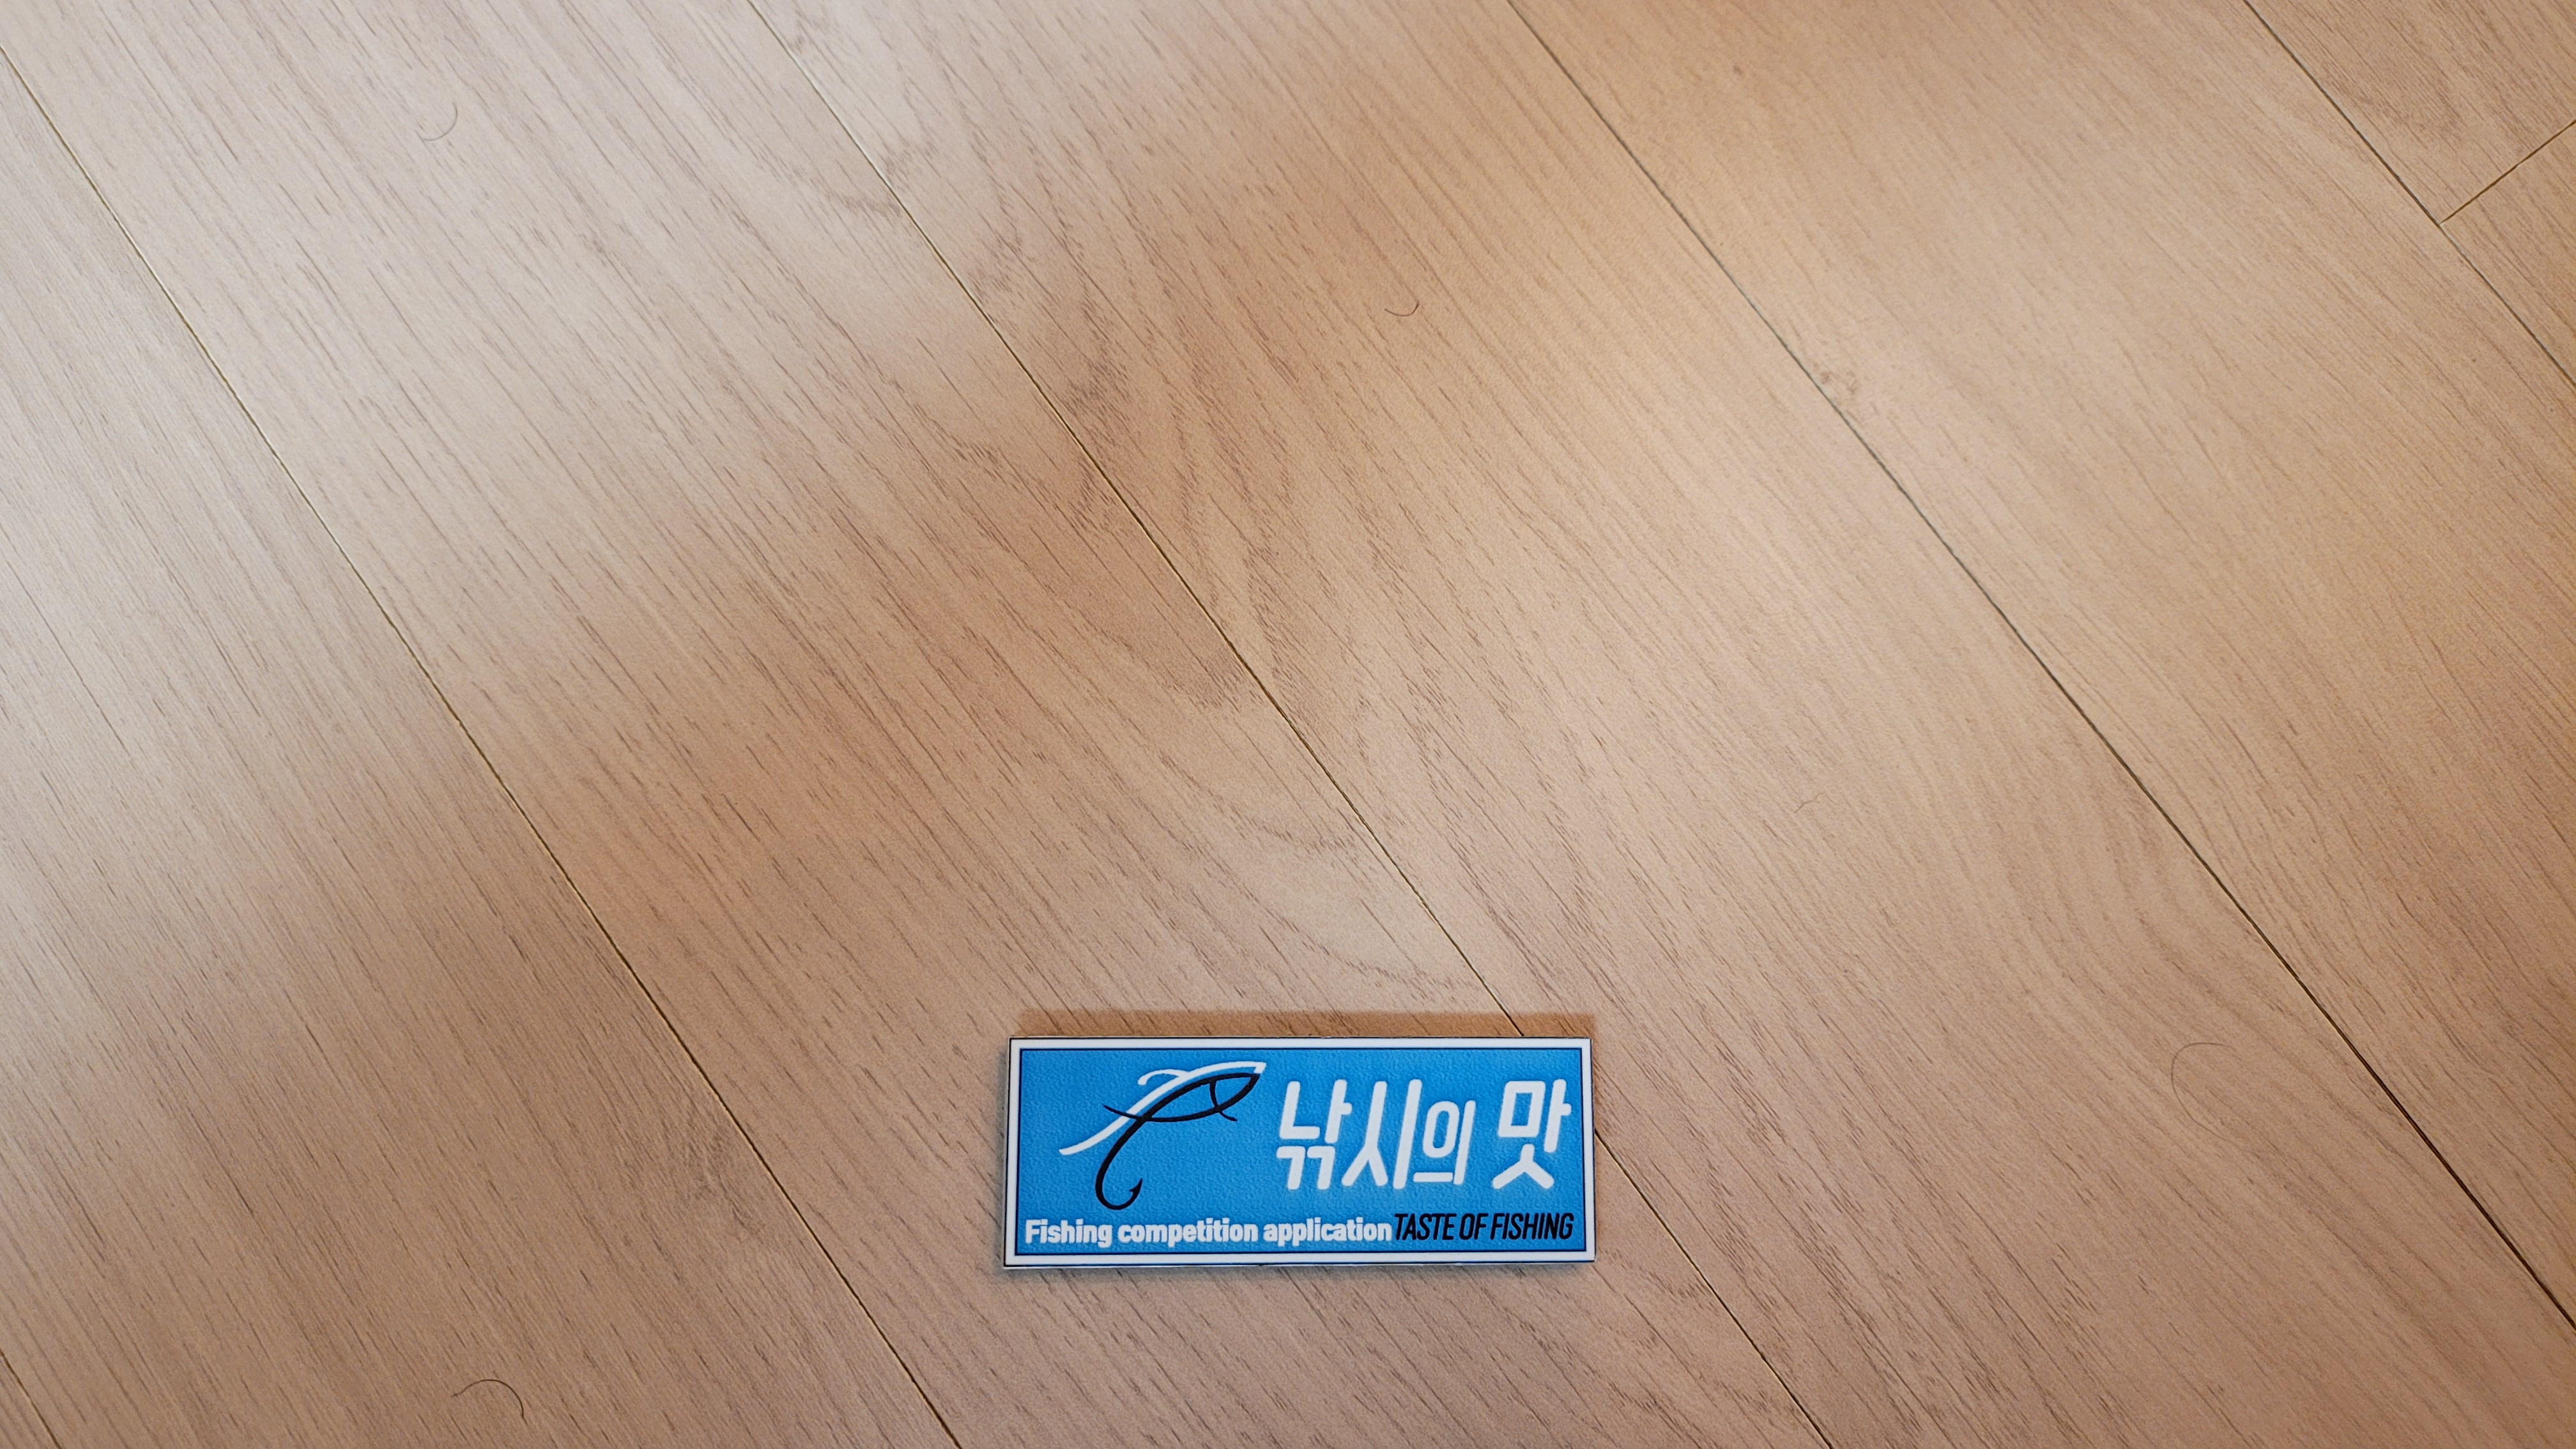tag: (1008, 1044, 1594, 1269)
